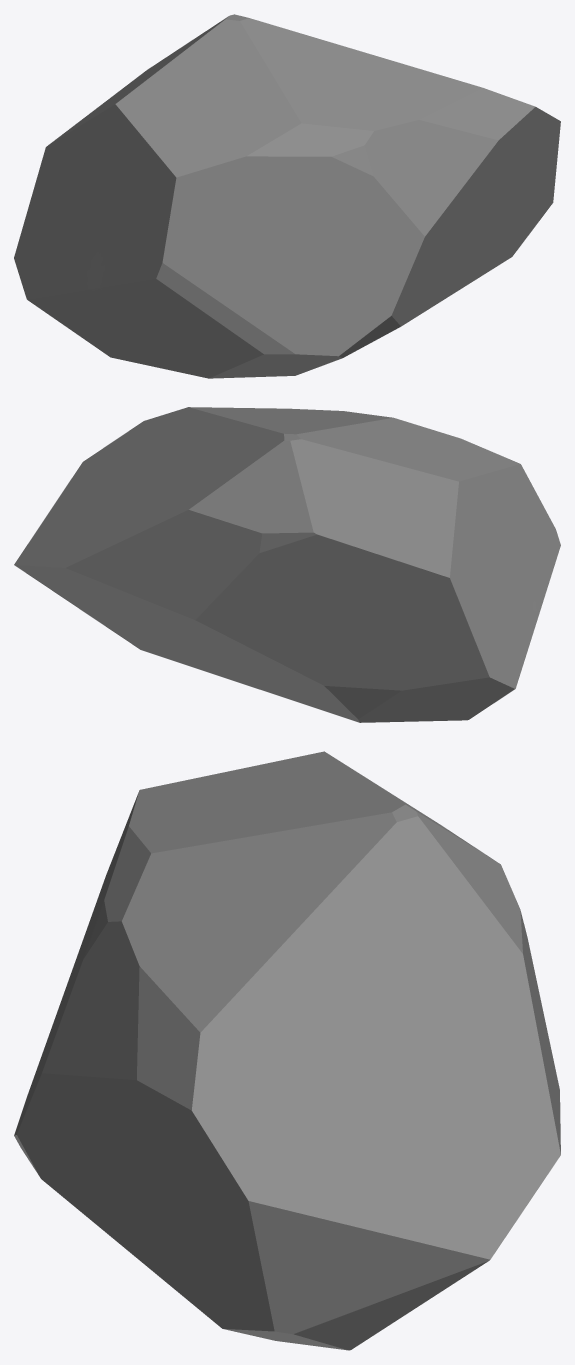
Rendered from Pedra.fbx.
3 renders of one model, top to bottom at view 1: azimuth 30°, elevation 25°; view 2: azimuth 150°, elevation 25°; view 3: azimuth 270°, elevation 25°, orthographic. The views are drawn at different scales.
Visible parts, largest first — view 1: Sphere.003; view 2: Sphere.003; view 3: Sphere.003.
Boxes of the visible parts, x1,y1,x2,y2 form: Sphere.003: (14,14,560,378); Sphere.003: (14,407,560,722); Sphere.003: (14,751,560,1350).
Bounding box in the file's own units: 406 × 220 × 264.
Materials: 1 (1 with a texture image).
